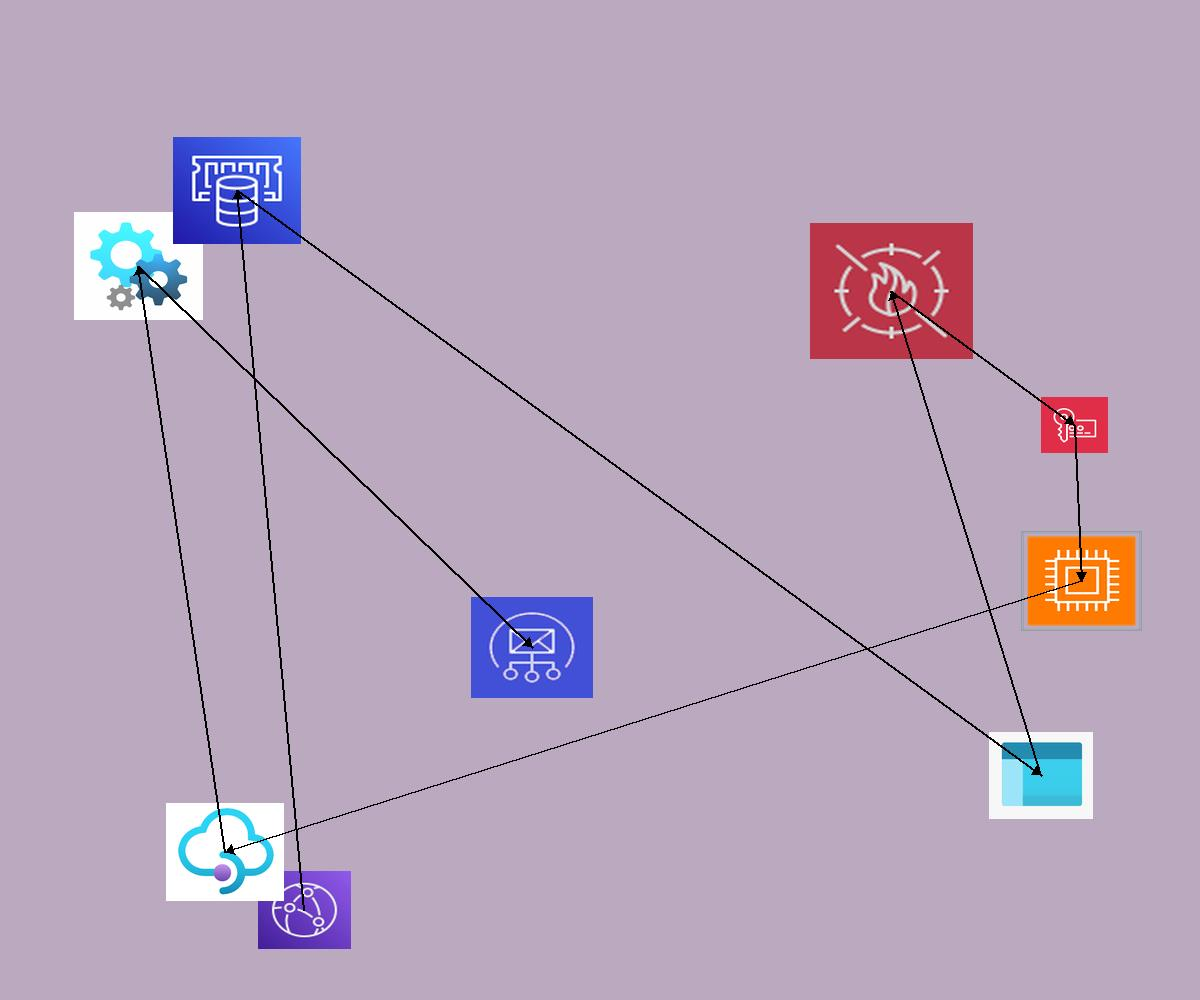AWS-Category_Compute: (1021, 531, 1142, 631)
AWS-CloudFront: (258, 871, 351, 949)
AWS-ElastiCache: (173, 137, 301, 244)
AWS-Key-Management-Service: (1041, 397, 1108, 453)
AWS-Simple-Email-Service: (471, 597, 593, 698)
AWS-WAF: (810, 223, 973, 359)
Azure_api: (74, 212, 203, 320)
Azure_api_gateway: (166, 803, 284, 901)
Azure_management-portal: (989, 732, 1093, 819)
